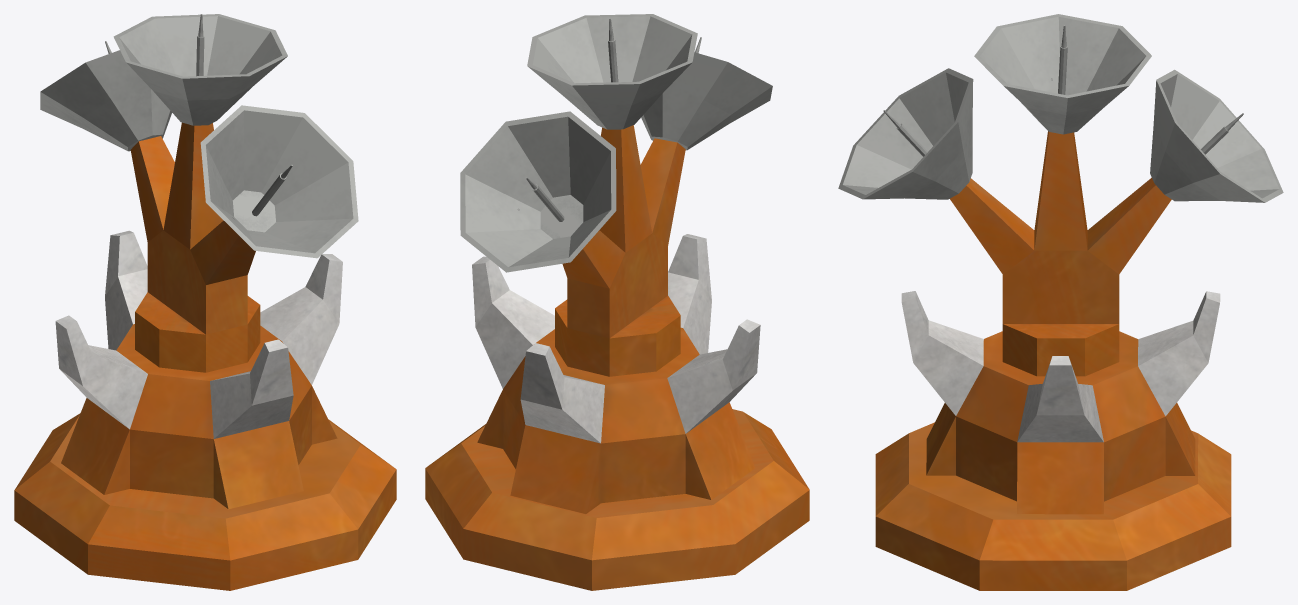
Rendered from TorreRadar3AMAST.fbx.
3 views of the same model, side by side, from view 1: azimuth 30°, elevation 25°; view 2: azimuth 150°, elevation 25°; view 3: azimuth 270°, elevation 25° (orthographic).
Visible parts, largest first — view 1: Base, Torre; view 2: Base, Torre; view 3: Base, Torre.
Part boxes in pixels (<box>): Base: <box>14,230,396,590</box>; Torre: <box>40,14,358,372</box>; Base: <box>425,234,809,590</box>; Torre: <box>460,14,772,376</box>; Base: <box>875,291,1231,590</box>; Torre: <box>838,14,1283,376</box>.
Bounding box in the file's own units: 337 × 514 × 422.
